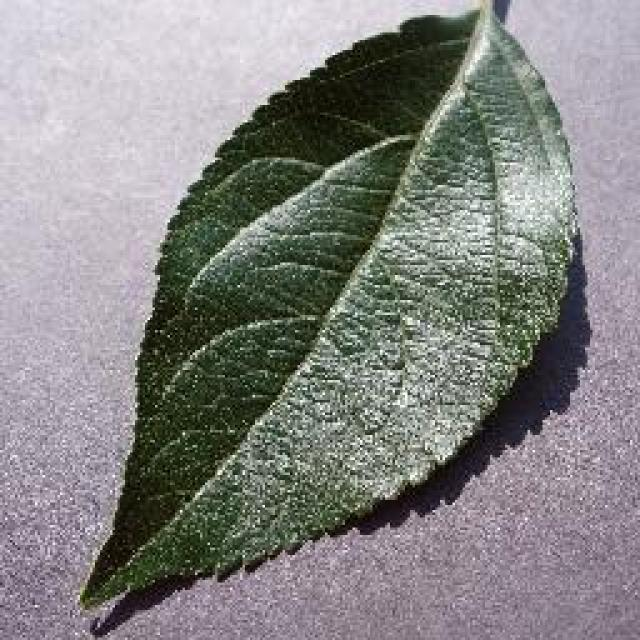apple scab disease: (75, 0, 580, 615)
